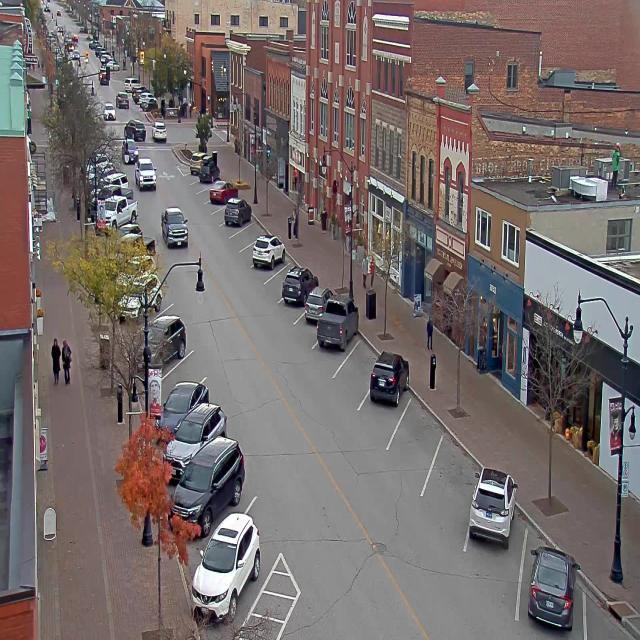available: (394, 386, 446, 468), (426, 436, 478, 509), (578, 586, 639, 639), (160, 341, 210, 390), (342, 332, 379, 390), (240, 212, 263, 245), (268, 259, 288, 290), (235, 241, 254, 270), (210, 206, 226, 229), (196, 184, 210, 206)
occupied: (186, 505, 267, 608), (169, 435, 245, 538), (526, 545, 580, 630), (170, 388, 235, 456), (468, 466, 517, 548), (155, 379, 209, 441), (316, 296, 358, 351), (368, 350, 409, 406), (142, 313, 187, 364), (282, 264, 318, 305), (252, 232, 285, 269), (302, 286, 327, 324), (224, 196, 251, 227), (208, 182, 232, 206), (198, 159, 219, 184), (188, 149, 206, 176)
